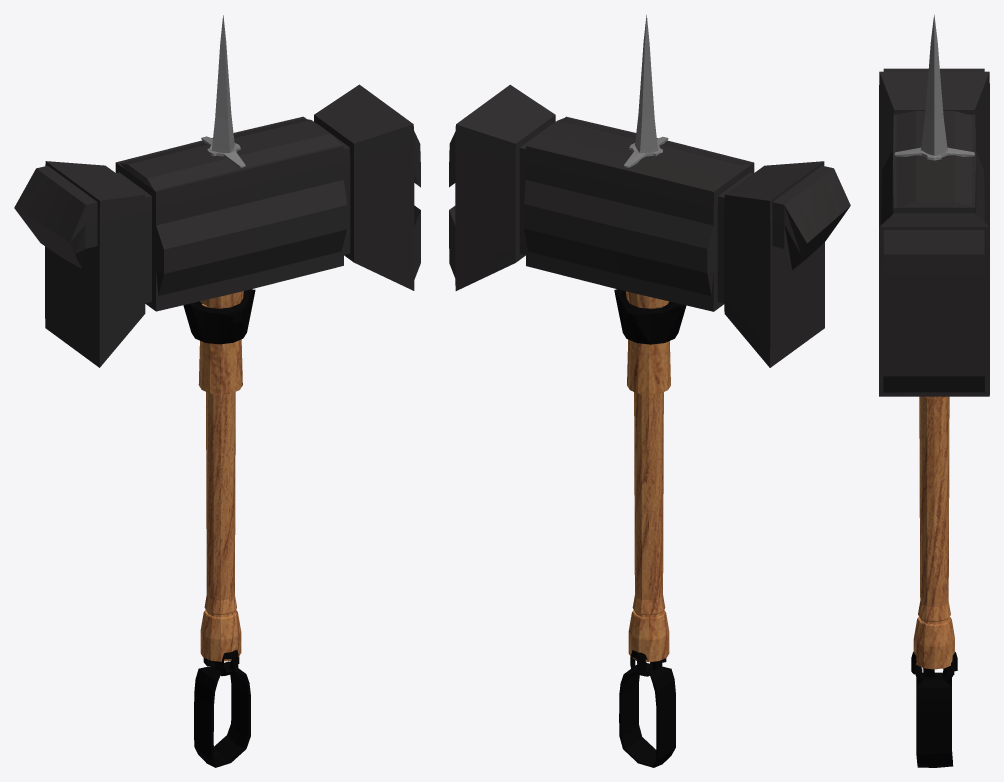
Rendered from weapon13.obj.
3 renders of one model, left to right at view 1: azimuth 30°, elevation 25°; view 2: azimuth 150°, elevation 25°; view 3: azimuth 270°, elevation 25°, orthographic.
Bounding box in the file's own units: 65.63 × 131 × 17.41.
Materials: 5 (1 with a texture image).
